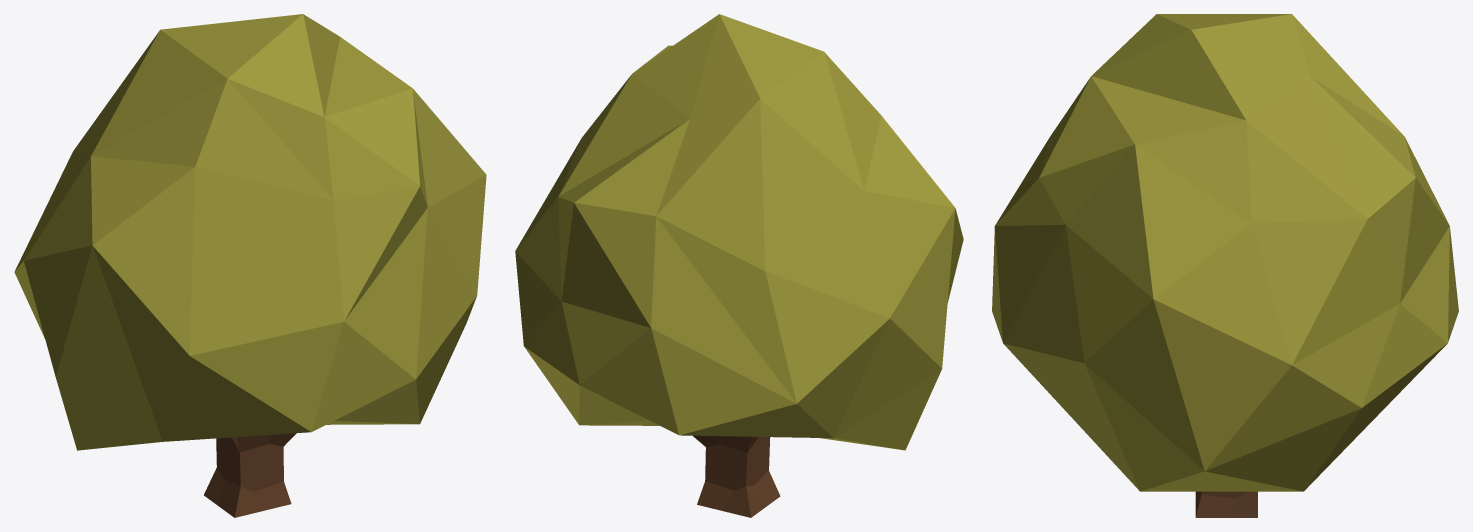
Rendered from Tree_15_Yellow.fbx.
The picture shows the model from 3 angles, left to right: view 1: azimuth 30°, elevation 25°; view 2: azimuth 150°, elevation 25°; view 3: azimuth 270°, elevation 25°; orthographic projection. The views are drawn at different scales.
Parts seen in each view (by area): view 1: Tree_15_Yellow_Part_1, Tree_15_Yellow_Part_2; view 2: Tree_15_Yellow_Part_1, Tree_15_Yellow_Part_2; view 3: Tree_15_Yellow_Part_1, Tree_15_Yellow_Part_2.
Boxes of the visible parts, x1,y1,x2,y2 form: Tree_15_Yellow_Part_1: (14,14,486,450); Tree_15_Yellow_Part_2: (204,433,296,517); Tree_15_Yellow_Part_1: (515,14,963,450); Tree_15_Yellow_Part_2: (693,435,780,517); Tree_15_Yellow_Part_1: (992,14,1458,491); Tree_15_Yellow_Part_2: (1195,491,1257,517).
Bounding box in the file's own units: 691 × 786 × 675.
